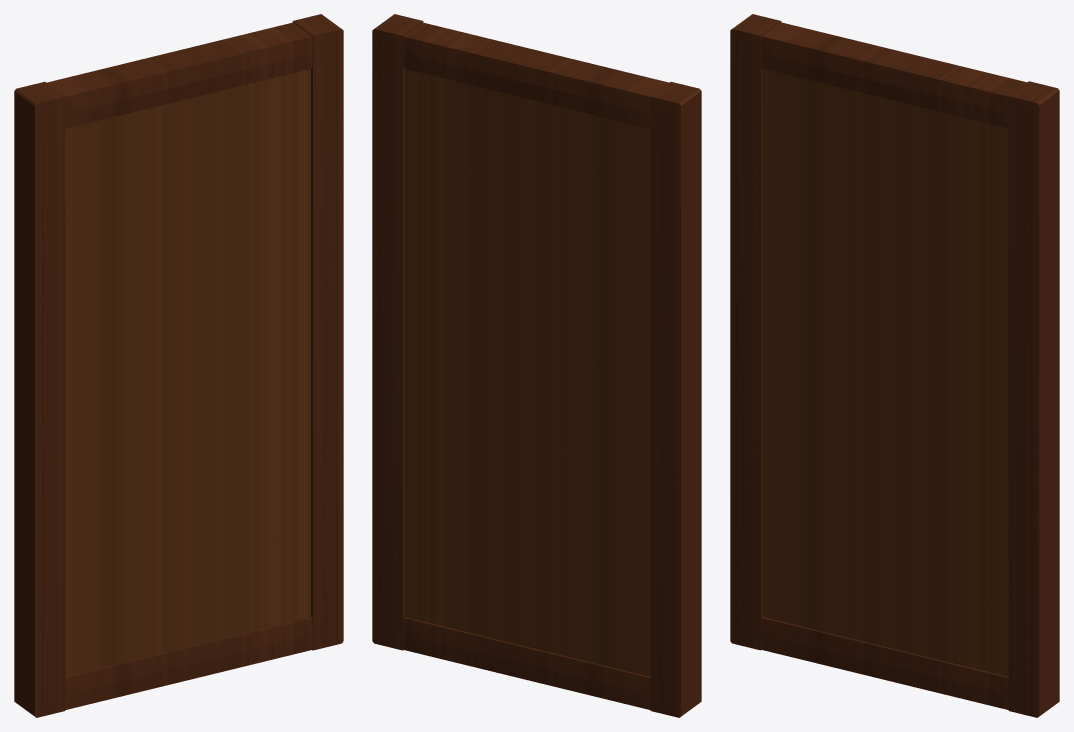
The model's file is Long_Wall_Wood.fbx.
3 renders of one model, left to right at view 1: azimuth 30°, elevation 25°; view 2: azimuth 150°, elevation 25°; view 3: azimuth 330°, elevation 25°, orthographic.
Parts seen in each view (by area): view 1: Long_Wall_Wood; view 2: Long_Wall_Wood; view 3: Long_Wall_Wood.
Part boxes in pixels (box(x1,y1,x2,y2)): Long_Wall_Wood: box(14, 14, 343, 717); Long_Wall_Wood: box(372, 14, 701, 717); Long_Wall_Wood: box(730, 14, 1059, 717).
Size of the model in its own units: 212 by 403 by 26.17.
